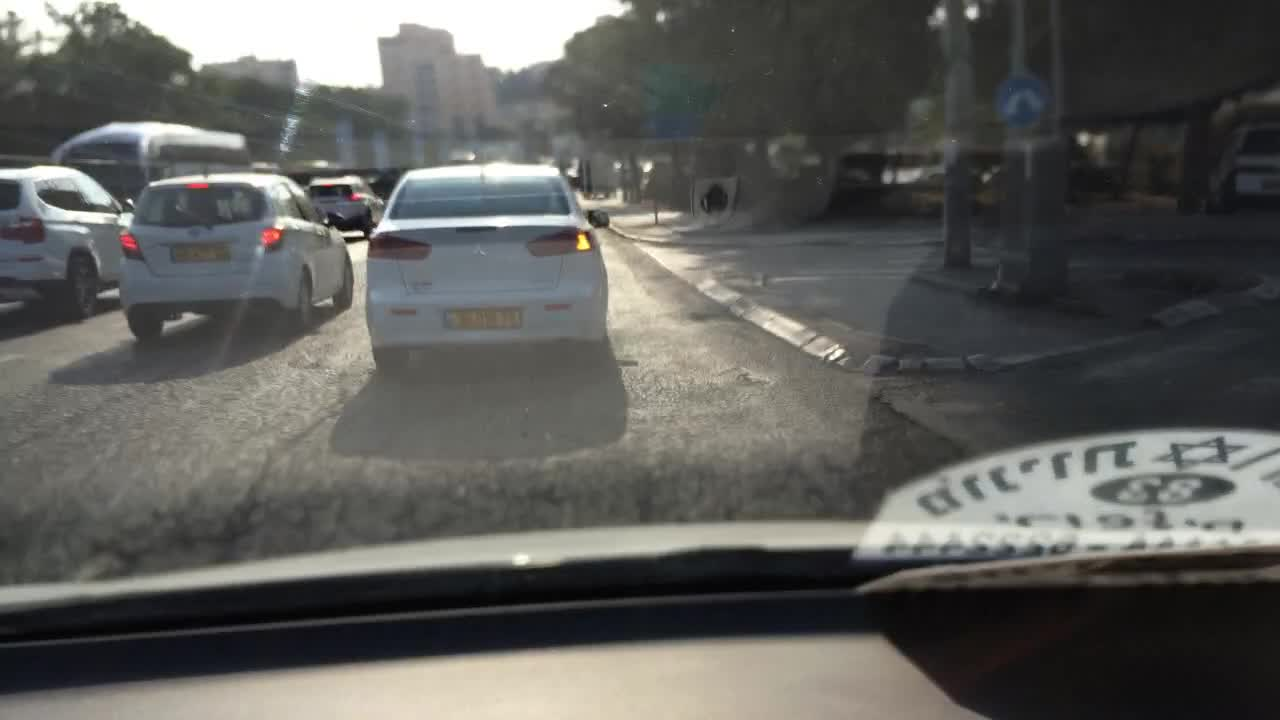bus: (44, 118, 256, 208)
car: (364, 162, 603, 373), (114, 168, 355, 345), (0, 164, 142, 318), (306, 171, 383, 235), (366, 167, 405, 199)
traffic sign: (650, 61, 714, 134), (994, 74, 1048, 127)
